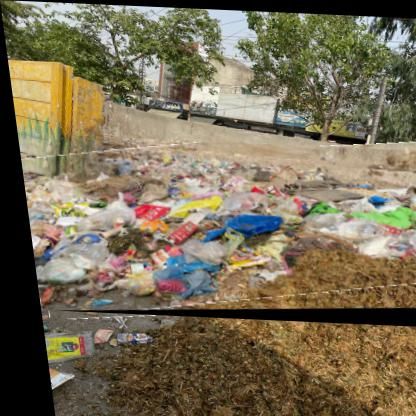Garbage: (14, 134, 416, 327)
